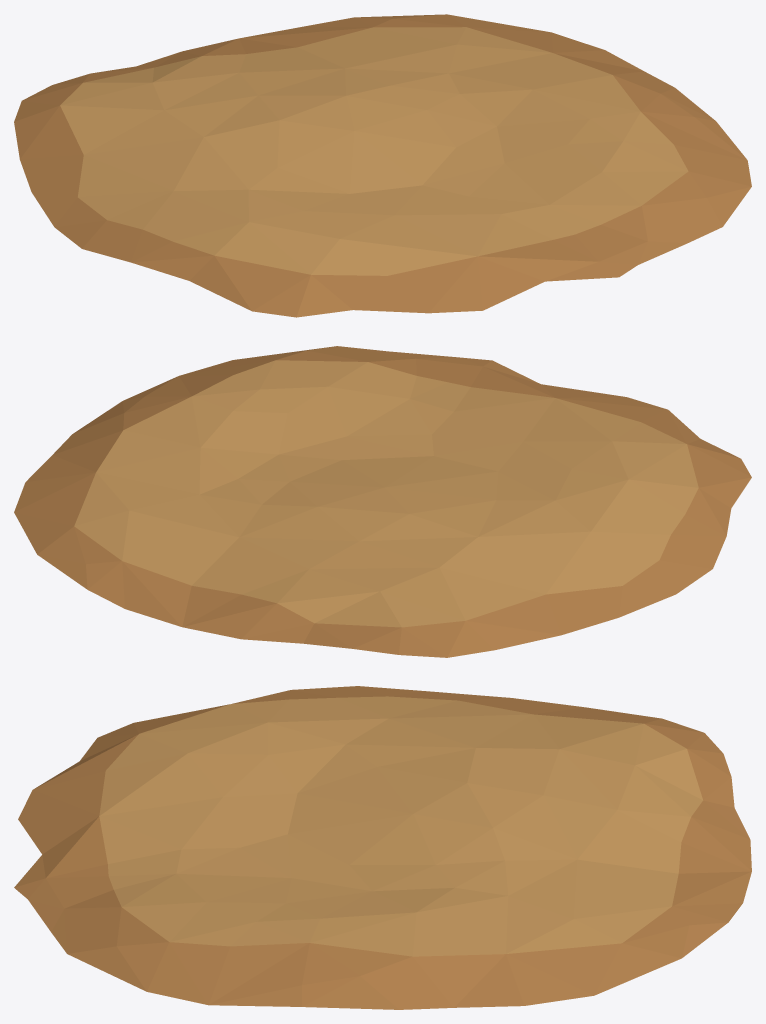
The model's file is EA_M_Env_Sand_01c.fbx.
3 views of the same model, one above another, from view 1: azimuth 30°, elevation 25°; view 2: azimuth 150°, elevation 25°; view 3: azimuth 270°, elevation 25° (orthographic). The views are drawn at different scales.
Visible parts, largest first — view 1: EA_M_Env_Sand_01c_LOD0; view 2: EA_M_Env_Sand_01c_LOD0; view 3: EA_M_Env_Sand_01c_LOD0.
Boxes of the visible parts, x1,y1,x2,y2 form: EA_M_Env_Sand_01c_LOD0: (14, 14, 751, 317); EA_M_Env_Sand_01c_LOD0: (14, 346, 751, 657); EA_M_Env_Sand_01c_LOD0: (14, 686, 751, 1009).
Size of what is drawn, in the model's own units: 7.17 by 0.418 by 6.95.
